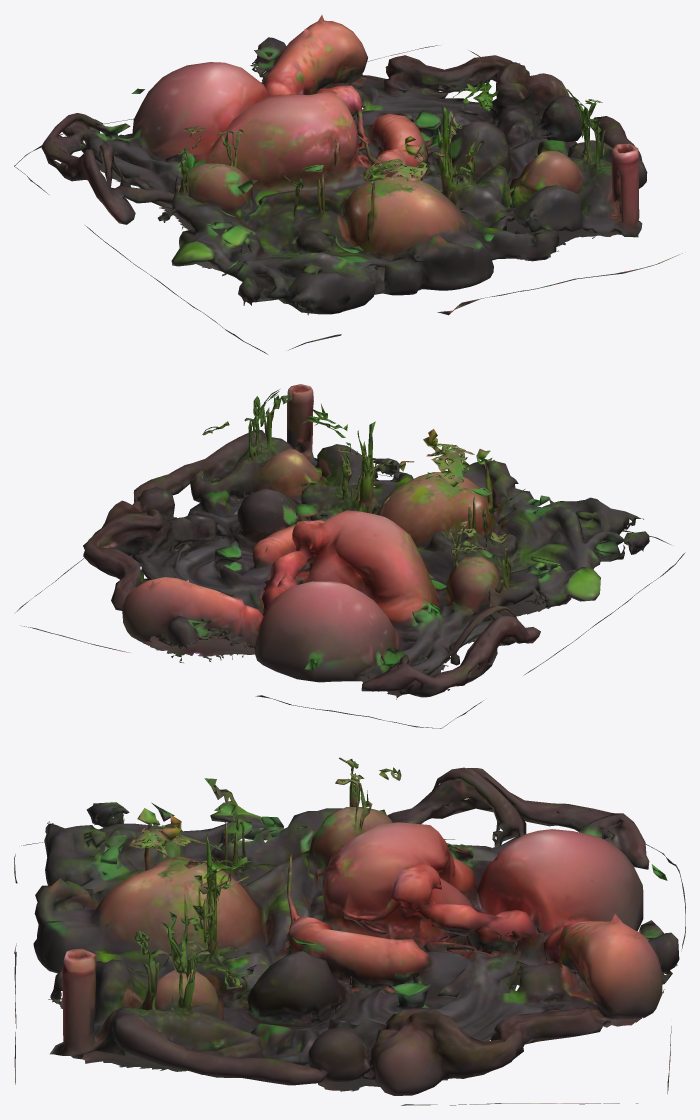
The model's file is a_floor_made_from_goo_0610135822_texture.fbx.
The picture shows the model from 3 angles, top to bottom: view 1: azimuth 30°, elevation 25°; view 2: azimuth 150°, elevation 25°; view 3: azimuth 270°, elevation 25°; orthographic projection. The views are drawn at different scales.
Visible parts, largest first — view 1: Mesh1; view 2: Mesh1; view 3: Mesh1.
Part boxes in pixels (x1,y1,x2,y2): Mesh1: (14,15,682,354); Mesh1: (14,384,685,728); Mesh1: (14,757,685,1105).
Size of the model in its own units: 193 by 54.71 by 195.
1 material, 1 textured.
